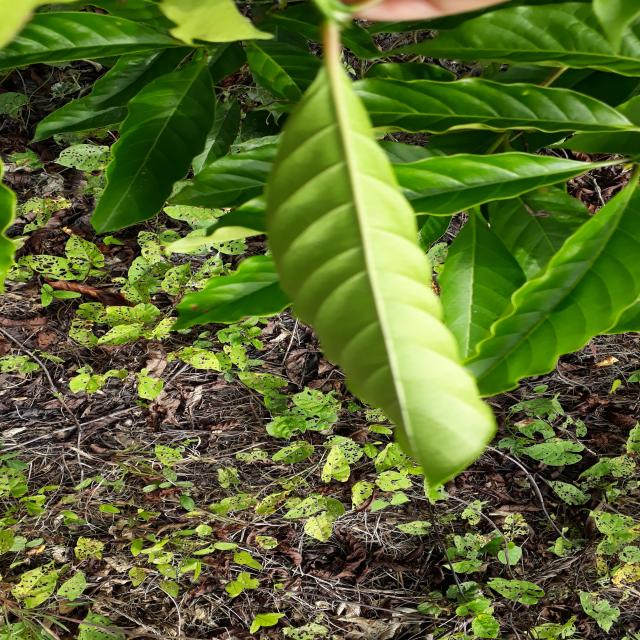Sanas: (264, 22, 498, 498)
